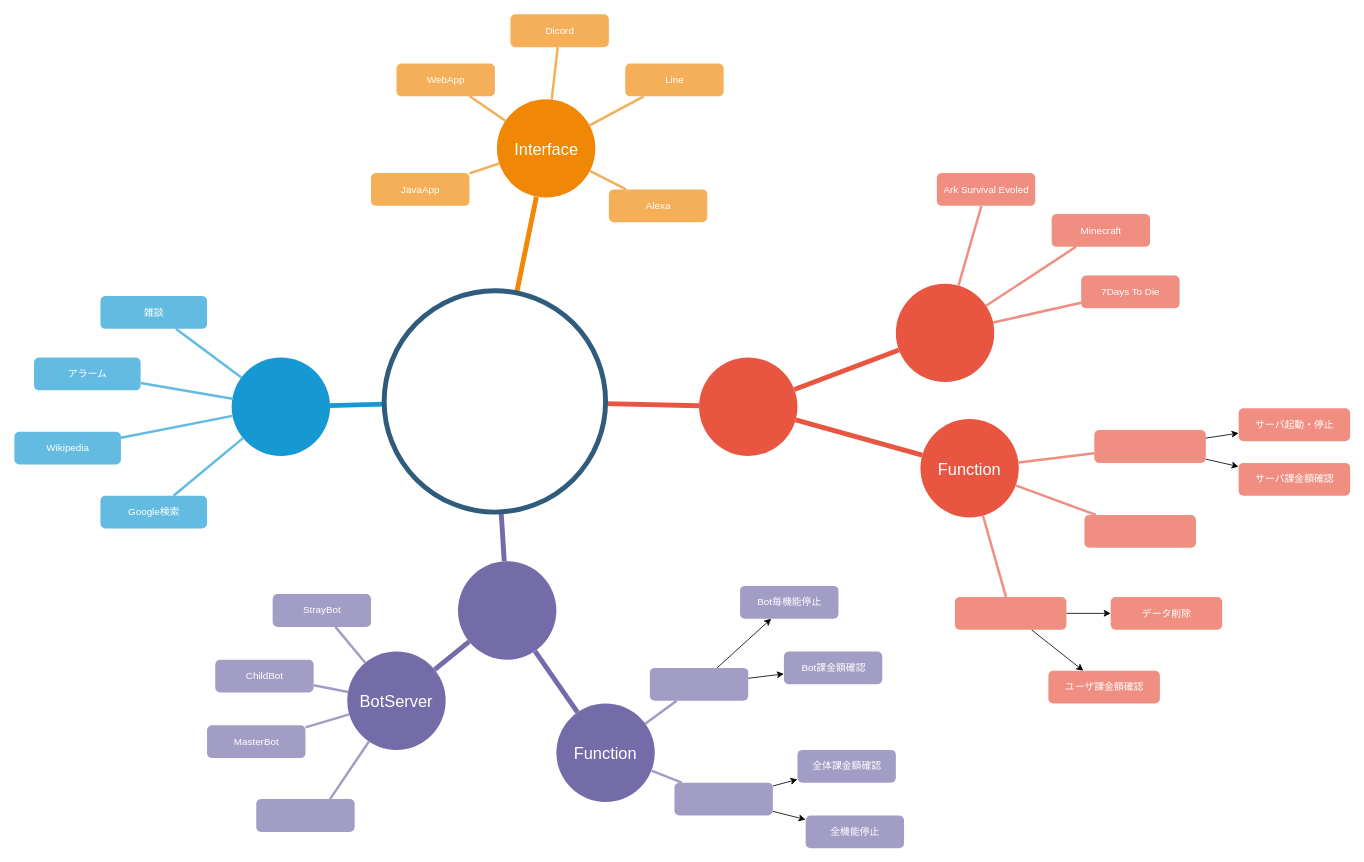
Image size: 1364x862. Some labels were removed from this diagram. Here are the shapes that lost their labels. From the top down, the box of each, then its label:
(895, 283, 994, 382): GameServer
(231, 357, 330, 456): Other Function
(381, 288, 608, 514): Bot
(699, 357, 797, 456): GameServer Management
(1094, 430, 1205, 462): サーバ管理
(1084, 515, 1196, 547): 多重起動防止
(458, 561, 556, 659): Bot Management
(954, 597, 1066, 629): ユーザID毎データ管理
(649, 667, 748, 700): Stray/ChildBot管理
(256, 799, 354, 831): AutoRecovery
(674, 782, 772, 815): MasterBot管理
